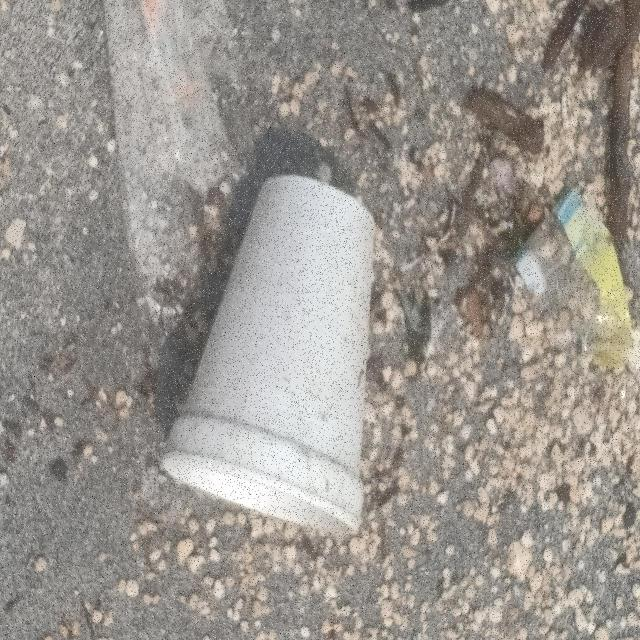styrofoam_waste: (162, 173, 380, 539)
